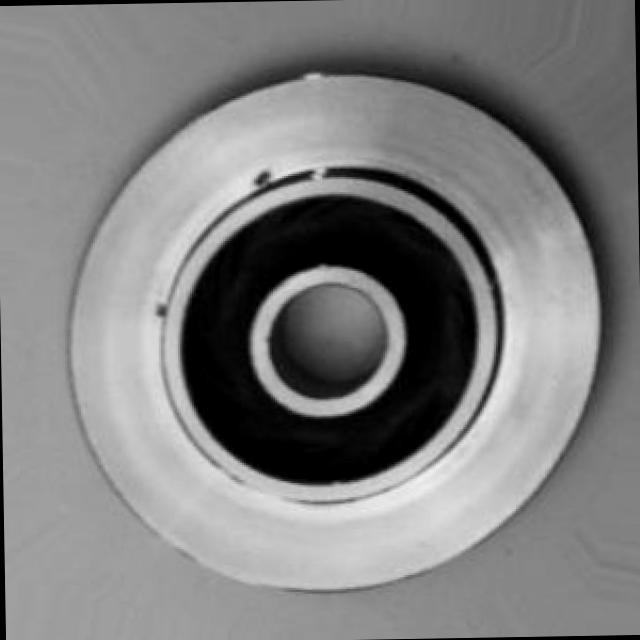Defect: (246, 162, 282, 188)
